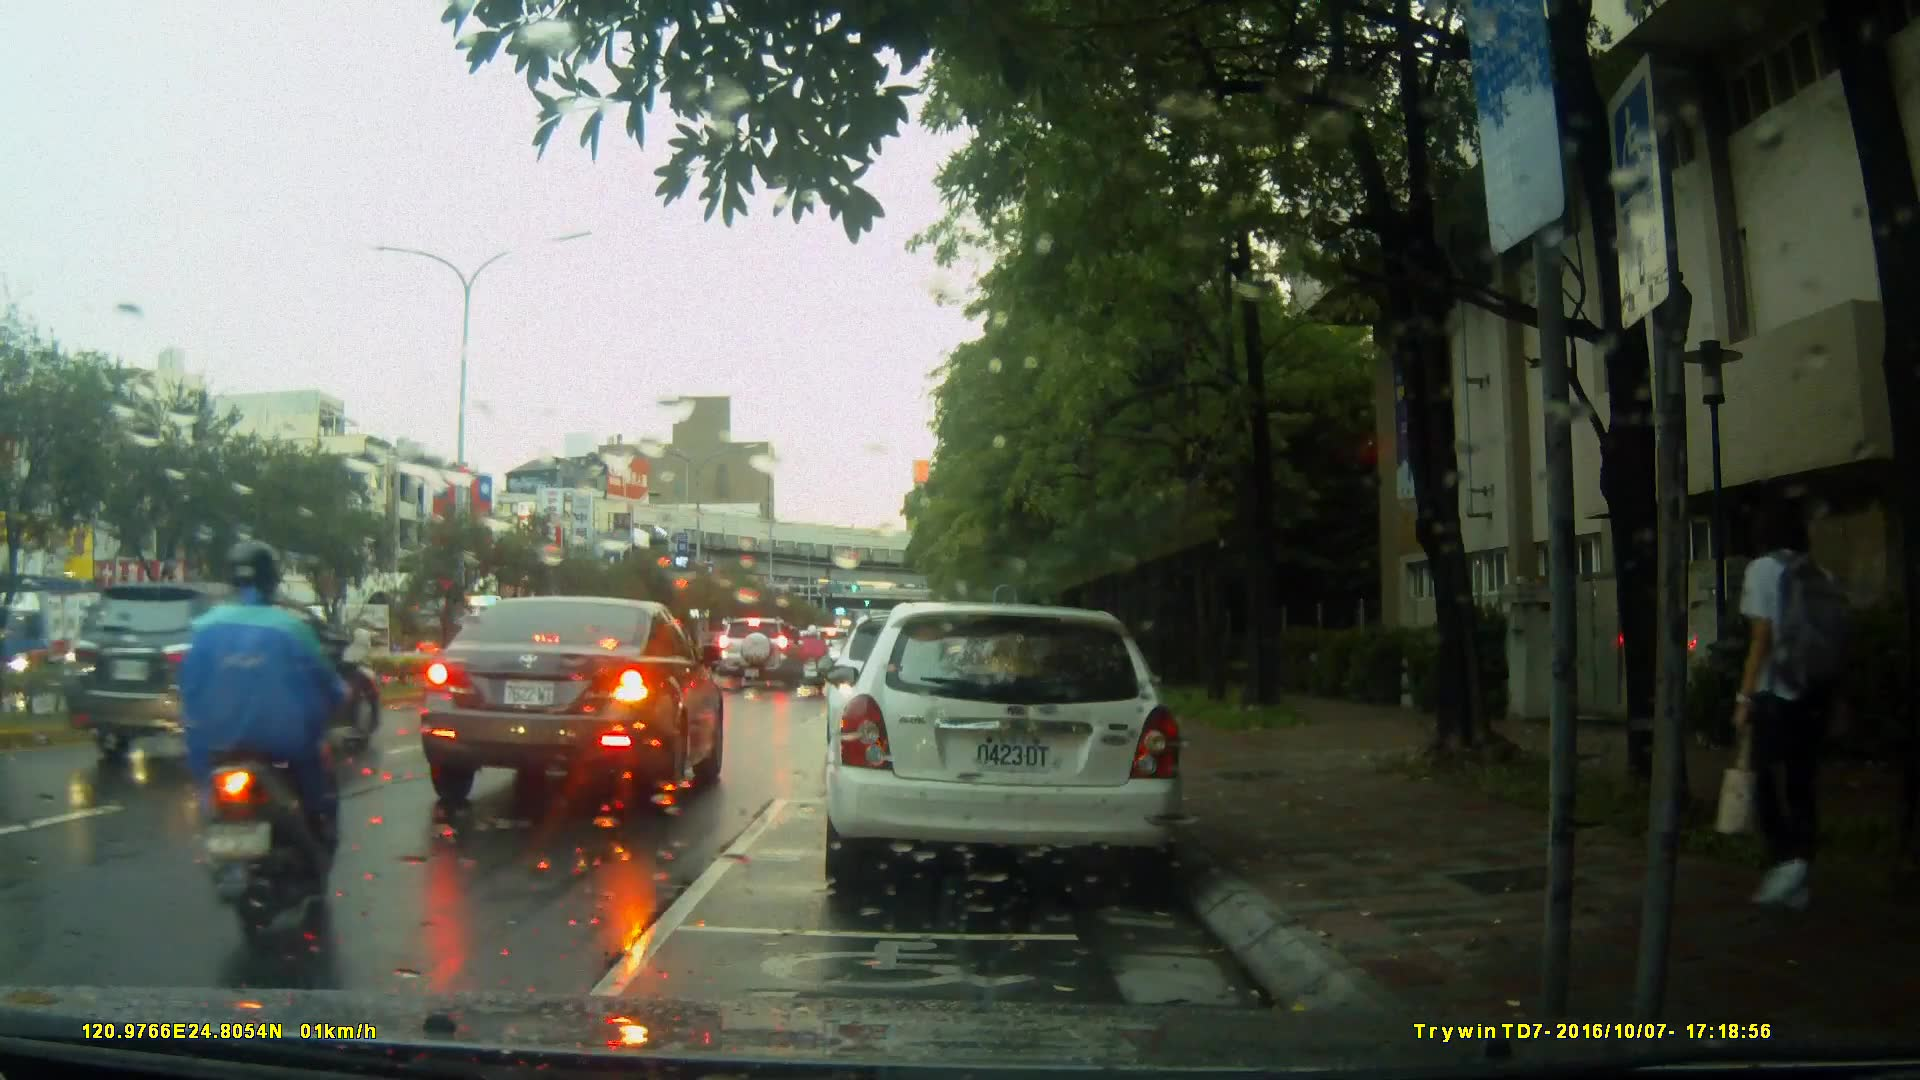pedestrian: (1713, 502, 1874, 916)
rider: (177, 537, 360, 943), (798, 624, 835, 700)
vehicle: (820, 602, 1188, 898), (419, 594, 728, 814), (60, 580, 386, 758), (719, 617, 806, 692)
